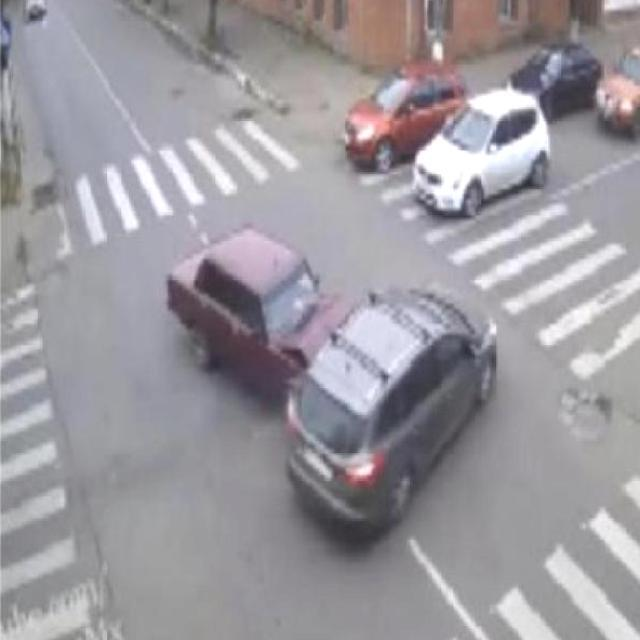accident: (163, 224, 501, 547)
